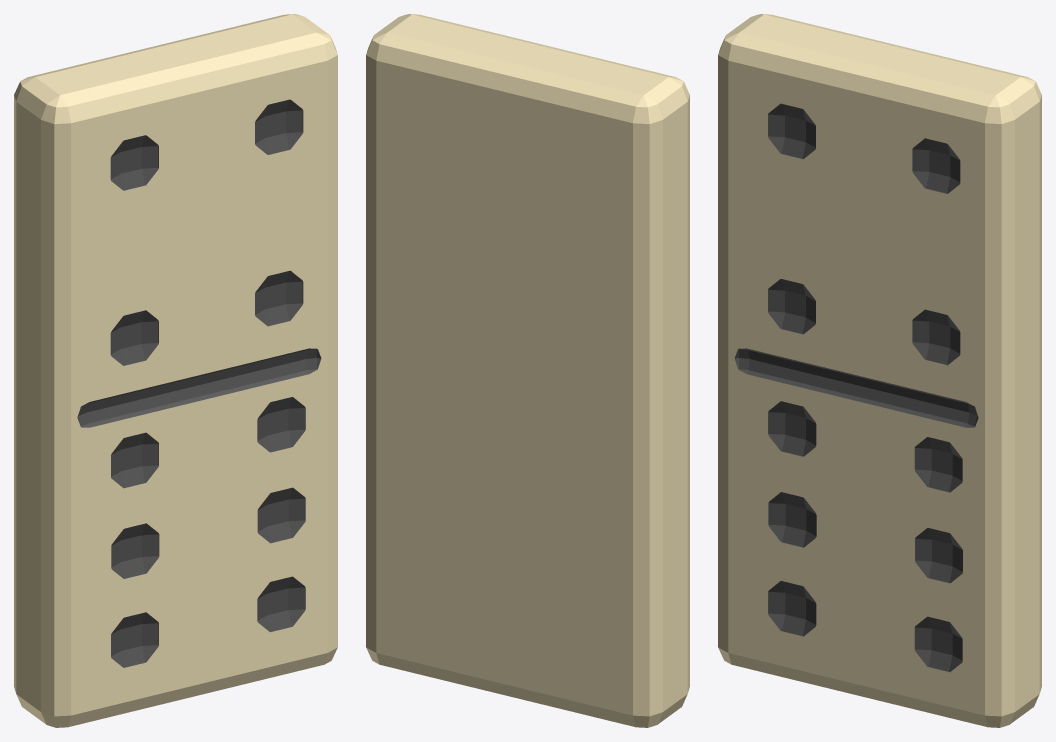
Rendered from dominoes 6x4.fbx.
The picture shows the model from 3 angles, left to right: view 1: azimuth 30°, elevation 25°; view 2: azimuth 150°, elevation 25°; view 3: azimuth 330°, elevation 25°; orthographic projection.
Parts seen in each view (by area): view 1: Boole_24; view 2: Boole_24; view 3: Boole_24.
Boxes of the visible parts, bbox=[...] form: Boole_24: bbox=[14, 14, 337, 727]; Boole_24: bbox=[366, 14, 689, 727]; Boole_24: bbox=[718, 14, 1041, 727].
Bounding box in the file's own units: 200 × 410 × 55.02.
